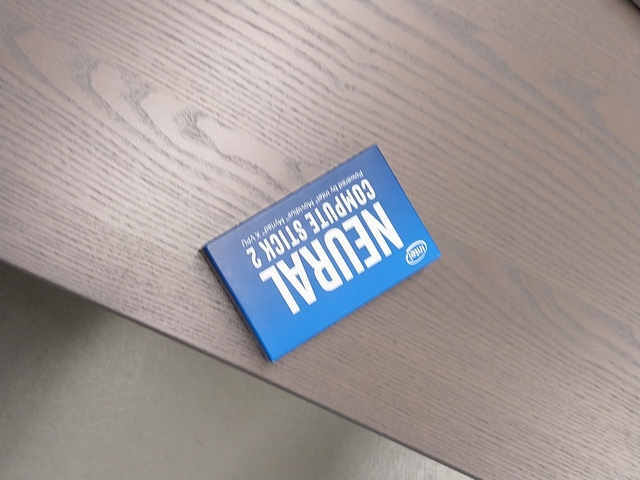box: (201, 142, 443, 366)
